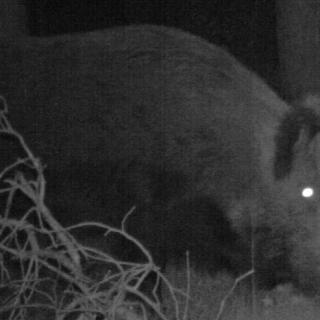Pig: (10, 16, 320, 291)
